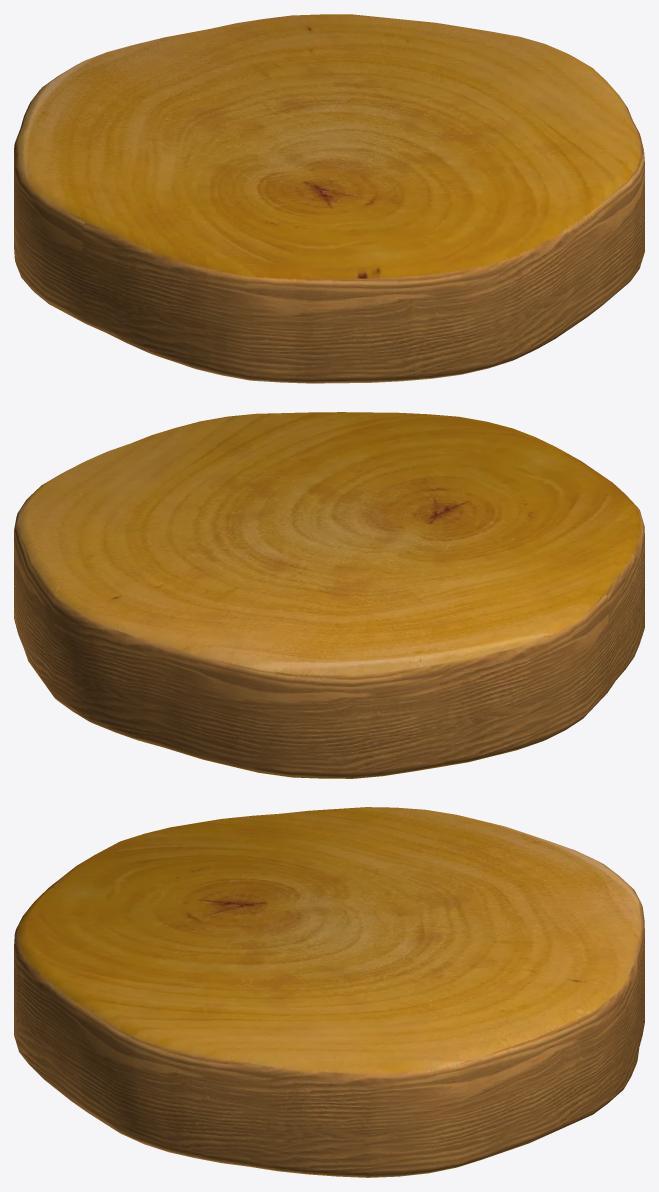
File: tamarind_board.glb
The picture shows the model from 3 angles, top to bottom: view 1: azimuth 30°, elevation 25°; view 2: azimuth 150°, elevation 25°; view 3: azimuth 270°, elevation 25°; orthographic projection.
Visible parts, largest first — view 1: tamarind_board; view 2: tamarind_board; view 3: tamarind_board.
Boxes of the visible parts, box(x1,y1,x2,y2) form: tamarind_board: box(14, 14, 644, 383); tamarind_board: box(14, 412, 644, 778); tamarind_board: box(14, 807, 644, 1177).
Size of the model in its own units: 0.384 by 0.075 by 0.3817.
Materials: 1 (1 with a texture image).
